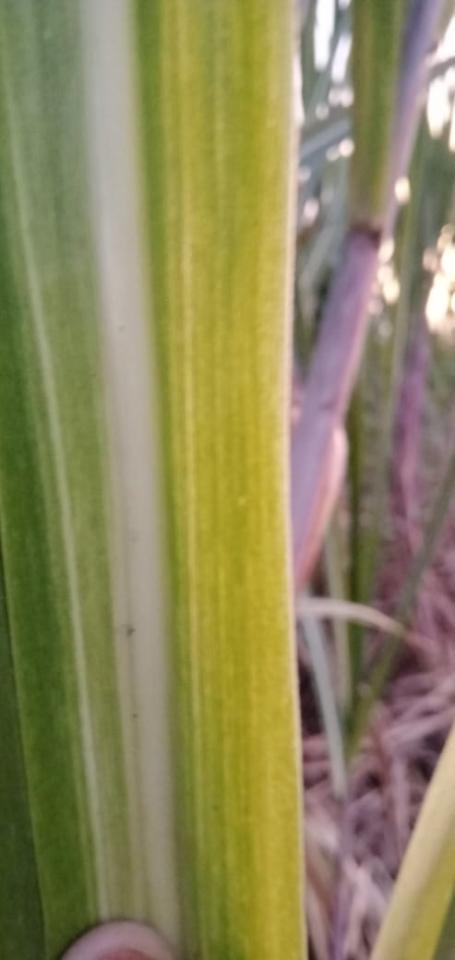Yellow: (223, 1, 306, 959)
